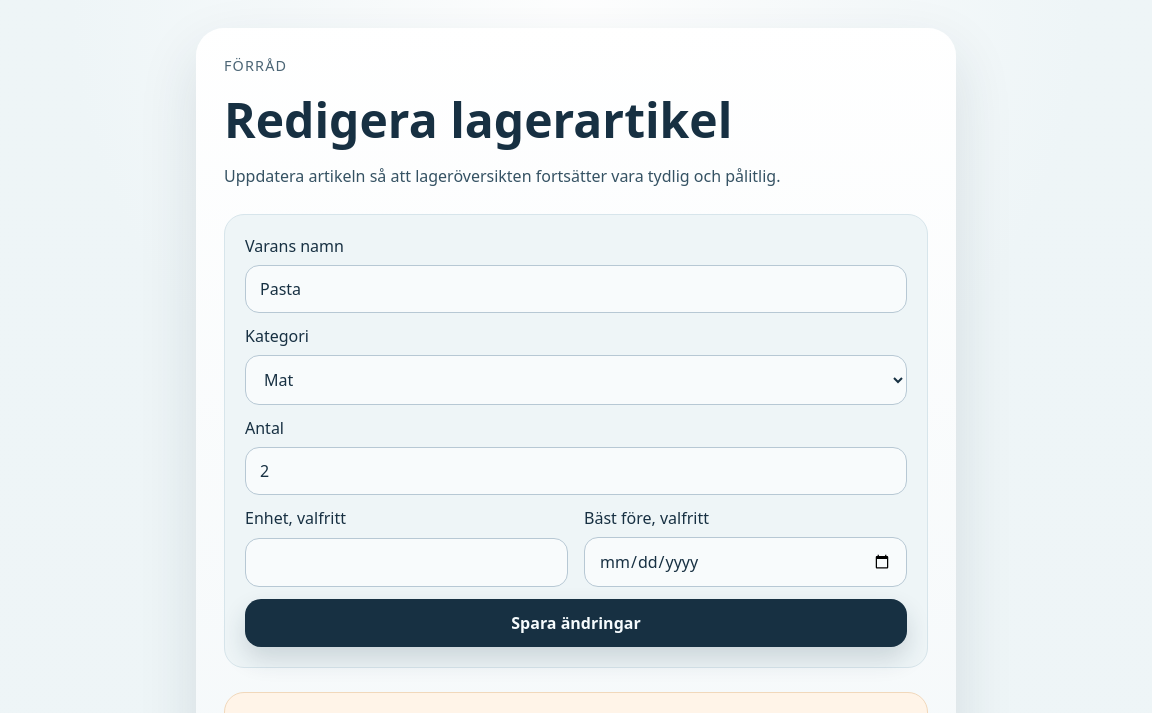
Test: EditInventoryItemForm › updates an existing inventory item
Replace the text in the field labelled "Varans namn" with "Fullkornspasta". click: (576, 289)
box: [245,265,907,313]
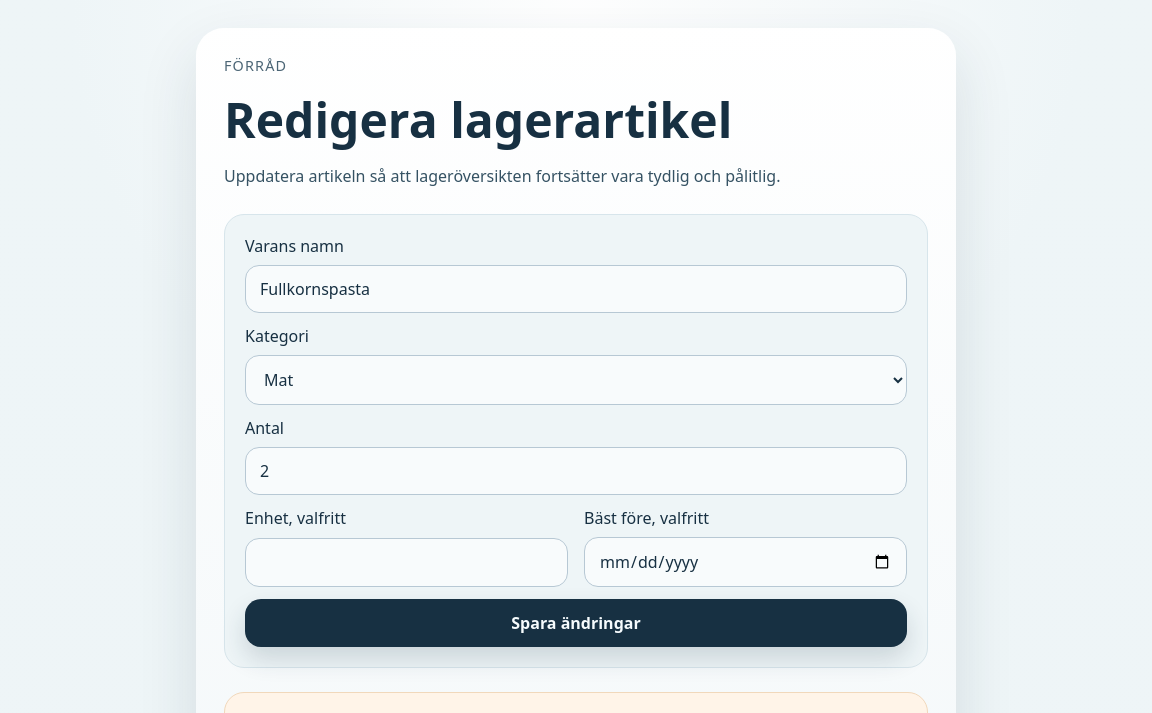
Replace the text in the number field labelled "Antal" with "4". click: (576, 471)
box: [245,447,907,495]
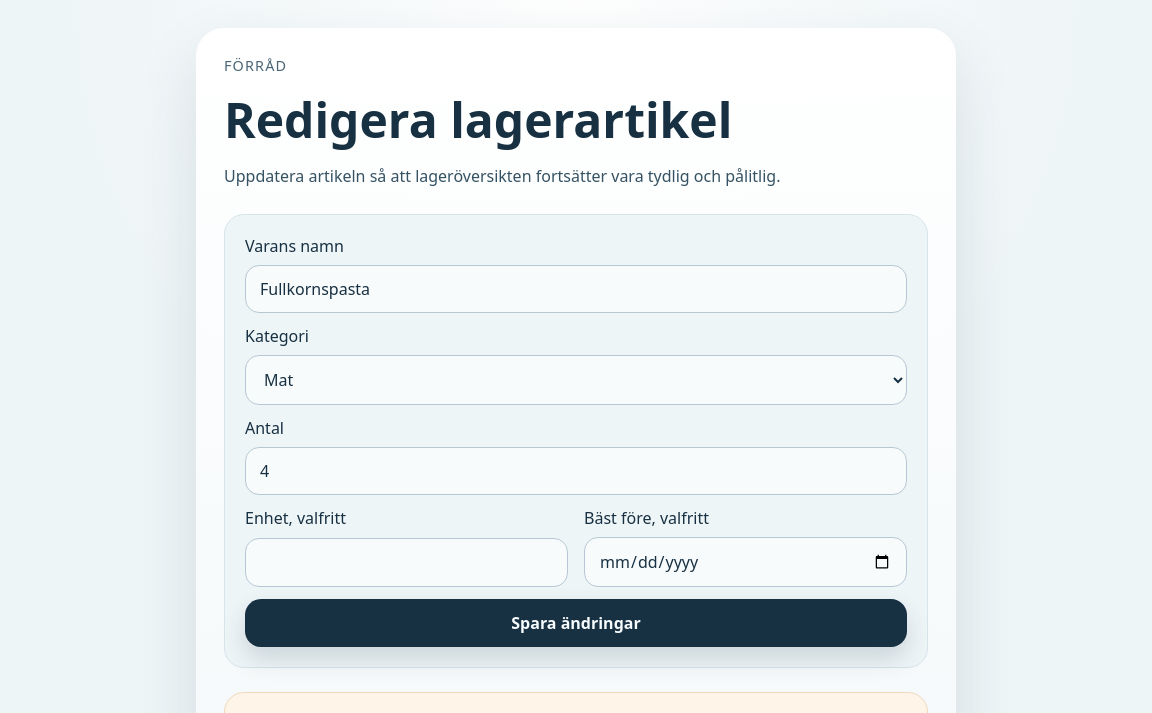
Click the button "Spara ändringar". click: (576, 623)
box: [245,599,907,647]
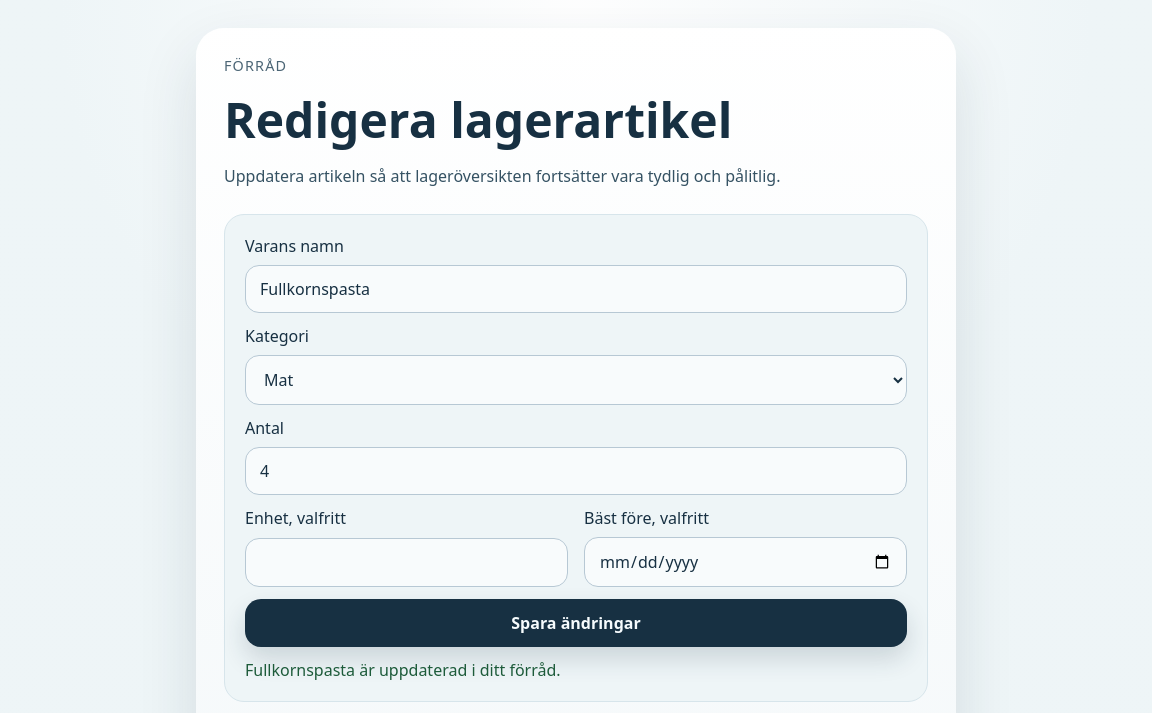
Expected: the text "Fullkornspasta är uppdaterad i ditt förråd." is shown, [245,659,561,681]
